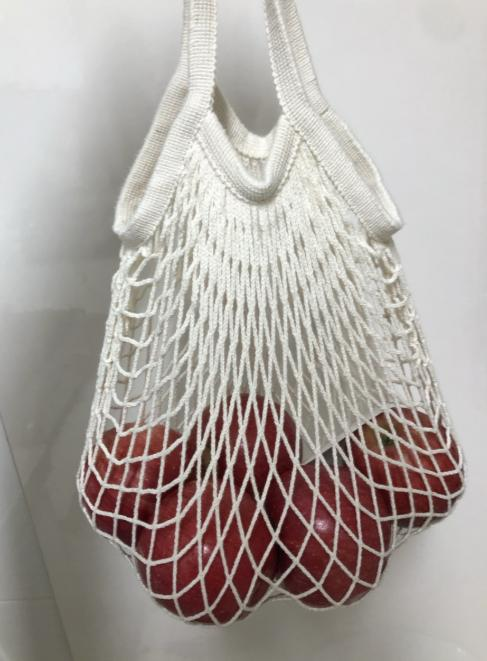Lunch Box: (77, 0, 464, 625)
